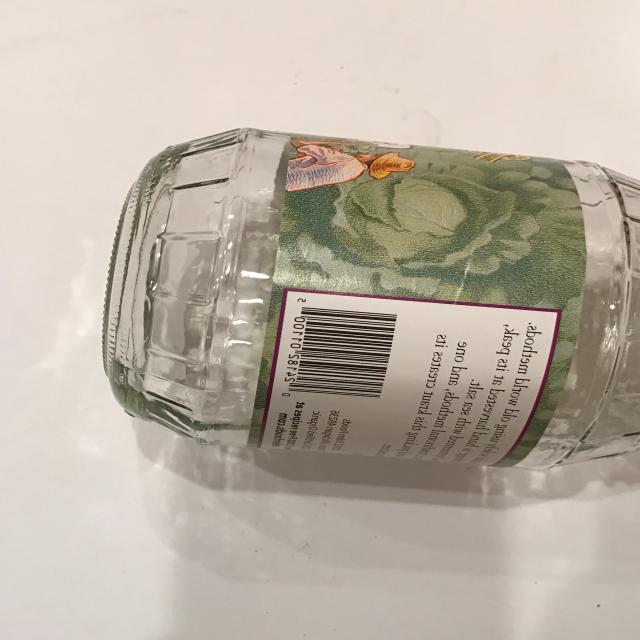glass: (101, 127, 640, 471)
